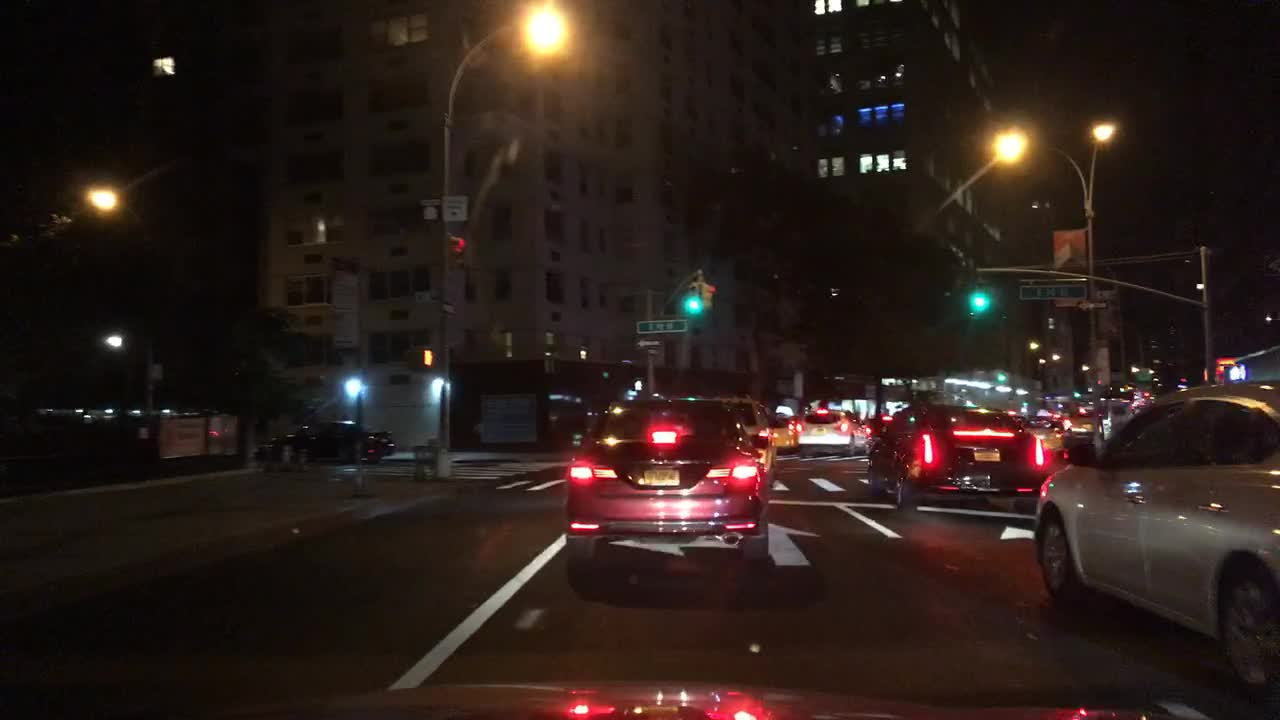car: (1029, 379, 1277, 688), (563, 394, 763, 599), (865, 402, 1055, 509), (251, 418, 396, 462), (714, 394, 778, 476), (799, 407, 875, 454), (1017, 414, 1071, 450), (769, 411, 804, 451), (1063, 408, 1096, 446)
traffic light: (448, 234, 465, 273), (688, 282, 701, 319), (971, 290, 987, 316), (702, 280, 714, 314), (423, 348, 439, 370), (995, 369, 1006, 383)
traffic sign: (1049, 231, 1087, 270), (1018, 285, 1084, 299), (631, 319, 687, 332), (439, 196, 468, 221), (419, 194, 440, 220), (412, 290, 443, 304), (1133, 371, 1152, 389), (1075, 300, 1108, 310), (634, 337, 663, 347), (441, 303, 459, 319)
